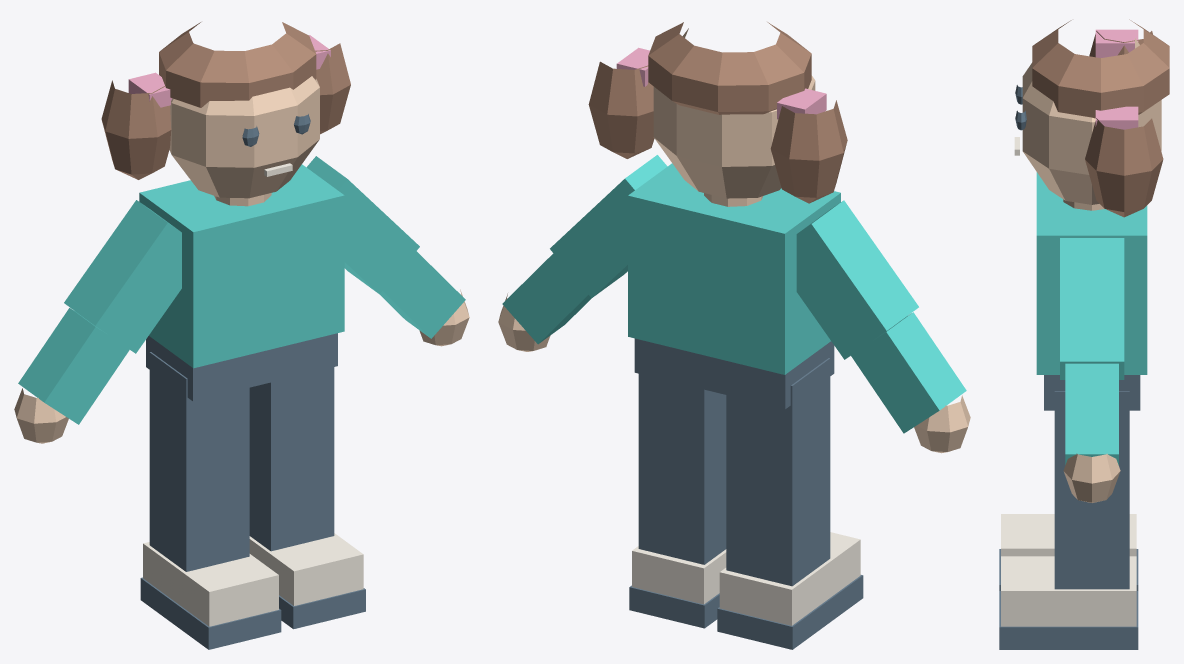
The model's file is 02_runner_skin_teal.glb.
The picture shows the model from 3 angles, left to right: view 1: azimuth 30°, elevation 25°; view 2: azimuth 150°, elevation 25°; view 3: azimuth 270°, elevation 25°; orthographic projection. The views are drawn at different scales.
Visible parts, largest first — view 1: 02_runner_skin_teal; view 2: 02_runner_skin_teal; view 3: 02_runner_skin_teal.
Part boxes in pixels (x1,y1,x2,y2): 02_runner_skin_teal: (14,22,469,649); 02_runner_skin_teal: (498,22,970,649); 02_runner_skin_teal: (999,19,1169,649).
Bounding box in the file's own units: 1.49 × 1.78 × 0.4777.
